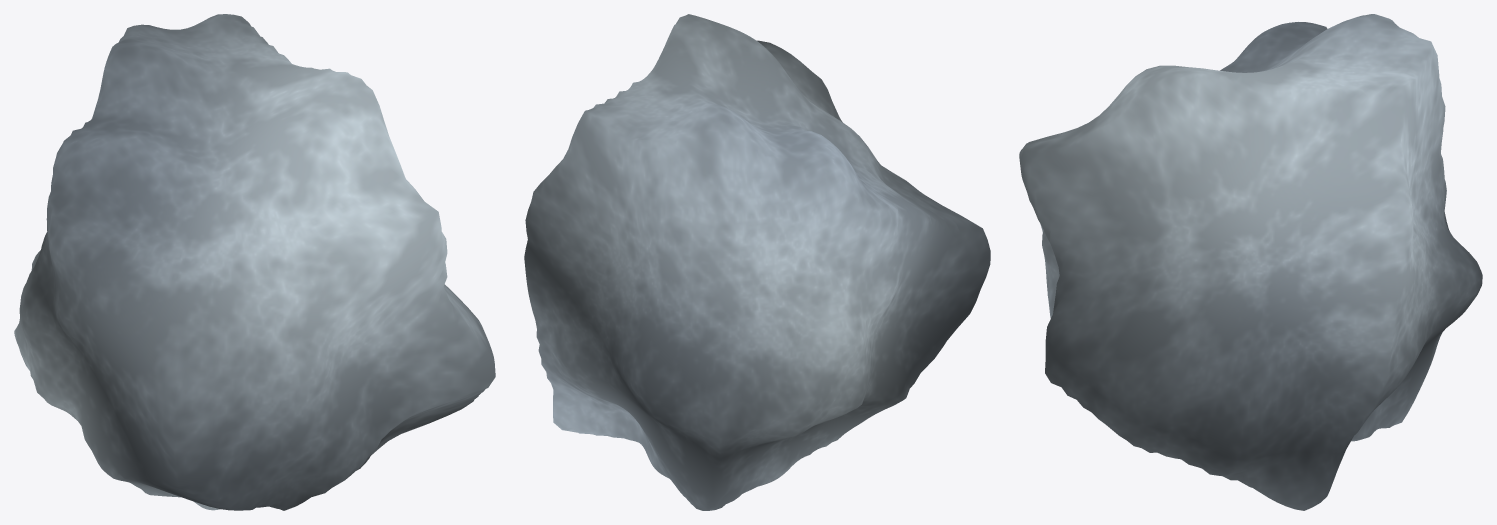
Rendered from asteroid-facet.glb.
3 renders of one model, left to right at view 1: azimuth 30°, elevation 25°; view 2: azimuth 150°, elevation 25°; view 3: azimuth 270°, elevation 25°, orthographic. The views are drawn at different scales.
Visible parts, largest first — view 1: asteroid_3002; view 2: asteroid_3002; view 3: asteroid_3002.
Part boxes in pixels (x1,y1,x2,y2): asteroid_3002: (14,14,495,510); asteroid_3002: (524,14,990,510); asteroid_3002: (1019,14,1482,510).
Size of the model in its own units: 41.69 by 46.23 by 45.63.
Materials: 1 (1 with a texture image).
